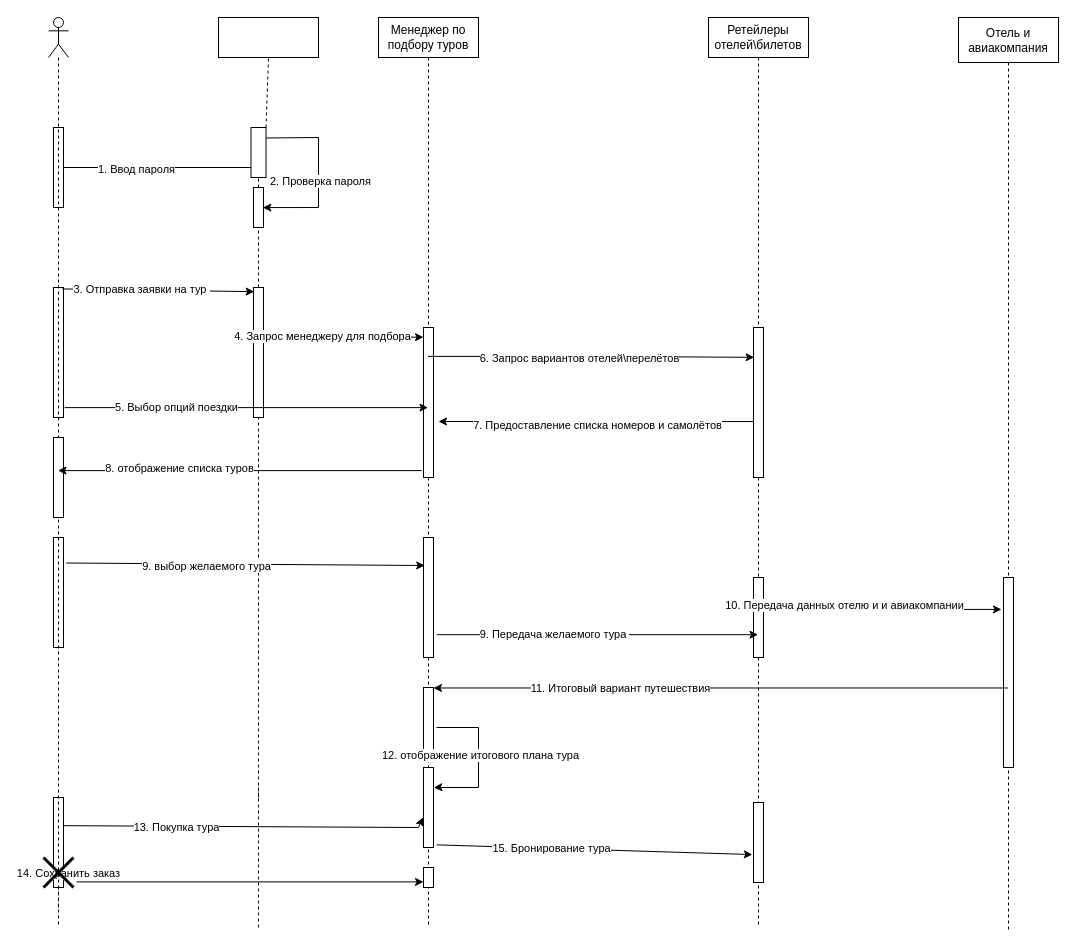
Some shapes in this 1076 by 950 pixel diagram are drawn without their labels. Each missing label, with the box of its shape:
Клиент: (48, 16, 68, 928)
Сайт: (218, 16, 318, 58)
